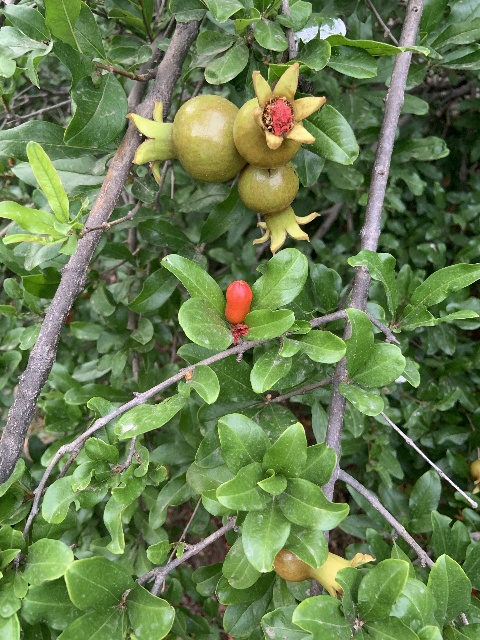bud: (225, 279, 252, 324)
early-fruit: (273, 547, 375, 598)
mid-growth: (124, 94, 246, 182), (232, 61, 326, 169), (237, 161, 320, 255)
